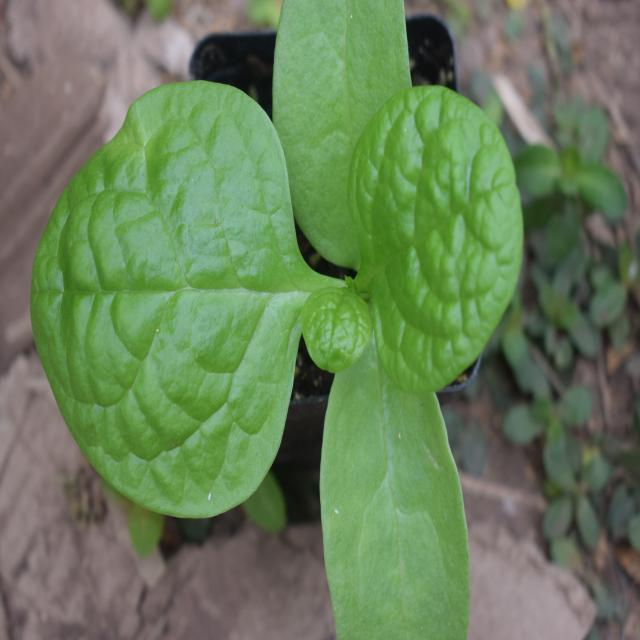Ceylon spinach: (32, 24, 523, 636)
